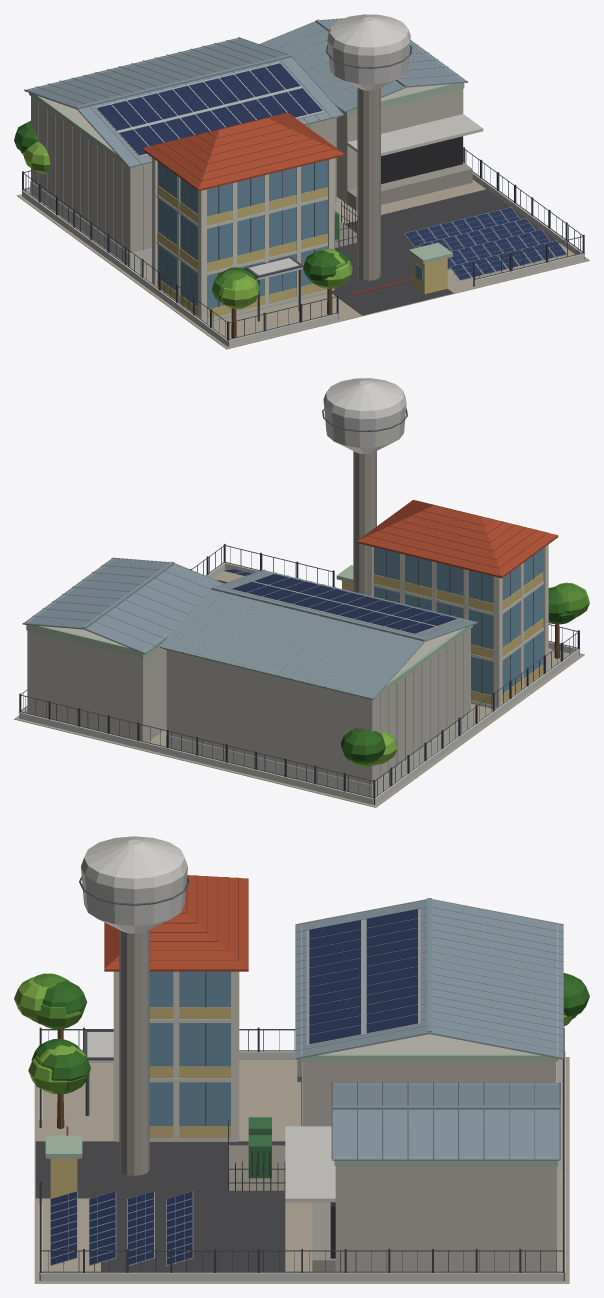
The model's file is factory_4.glb.
3 views of the same model, one above another, from view 1: azimuth 30°, elevation 25°; view 2: azimuth 150°, elevation 25°; view 3: azimuth 270°, elevation 25° (orthographic). The views are drawn at different scales.
Visible parts, largest first — view 1: body; view 2: body; view 3: body.
Part boxes in pixels (bbox=[...]): body: bbox=[14, 14, 589, 349]; body: bbox=[14, 378, 589, 807]; body: bbox=[14, 836, 589, 1283].
Size of the model in its own units: 32.41 by 21.63 by 34.34.
